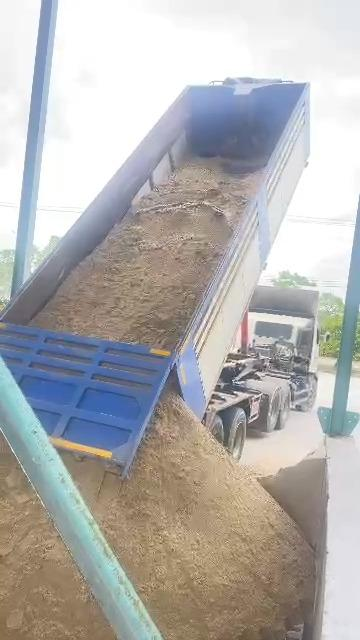sand: (65, 395, 312, 639), (65, 396, 312, 639), (33, 160, 260, 348), (34, 161, 258, 347), (0, 454, 113, 639), (0, 457, 113, 639), (261, 447, 325, 547)
